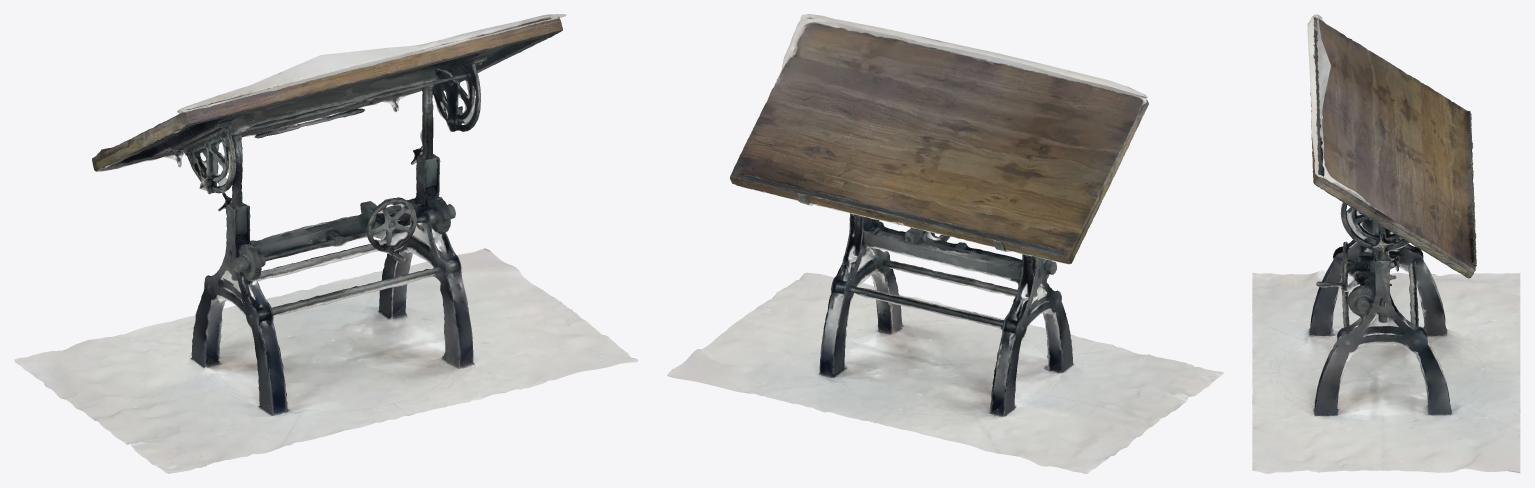
File: drafting-table.glb
The picture shows the model from 3 angles, left to right: view 1: azimuth 30°, elevation 25°; view 2: azimuth 150°, elevation 25°; view 3: azimuth 270°, elevation 25°; orthographic projection. The views are drawn at different scales.
Visible parts, largest first — view 1: Object_0; view 2: Object_0; view 3: Object_0.
Boxes of the visible parts, x1,y1,x2,y2 form: Object_0: (14,14,638,473); Object_0: (667,14,1223,473); Object_0: (1252,14,1520,473).
Bounding box in the file's own units: 1.1 × 0.7657 × 0.6324.
1 material, 1 textured.
